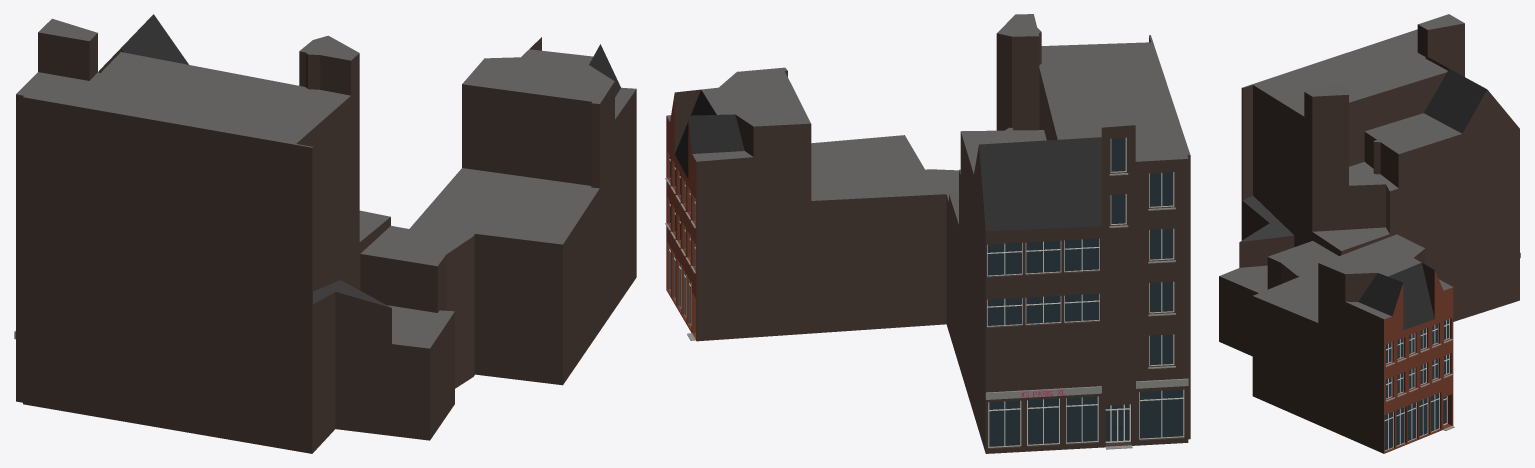
File: recipe-large-leidsestraat-67-large.glb
3 views of the same model, side by side, from view 1: azimuth 30°, elevation 25°; view 2: azimuth 150°, elevation 25°; view 3: azimuth 270°, elevation 25° (orthographic). The views are drawn at different scales.
Parts seen in each view (by area): view 1: leidsestraat-67-large; view 2: leidsestraat-67-large; view 3: leidsestraat-67-large.
Boxes of the visible parts, x1,y1,x2,y2 form: leidsestraat-67-large: (14,14,636,453); leidsestraat-67-large: (665,14,1190,453); leidsestraat-67-large: (1219,14,1520,453).
Size of the model in its own units: 41.95 by 23.42 by 25.89.
